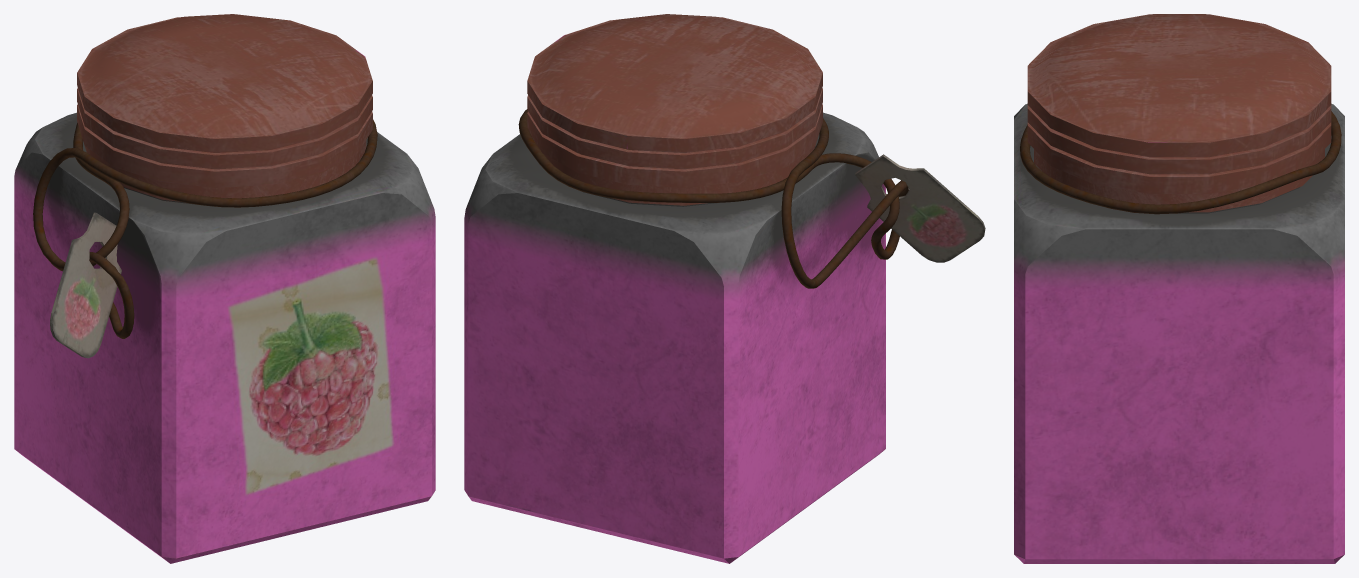
Rendered from casual_jar_of_raspberry_jam.glb.
3 views of the same model, side by side, from view 1: azimuth 30°, elevation 25°; view 2: azimuth 150°, elevation 25°; view 3: azimuth 270°, elevation 25° (orthographic). The views are drawn at different scales.
Visible parts, largest first — view 1: jam_0; view 2: jam_0; view 3: jam_0.
Boxes of the visible parts, x1,y1,x2,y2 form: jam_0: [14, 14, 435, 563]; jam_0: [464, 14, 985, 563]; jam_0: [1014, 14, 1344, 563].
Size of the model in its own units: 2.77 by 2.9 by 2.
1 material, 1 textured.
